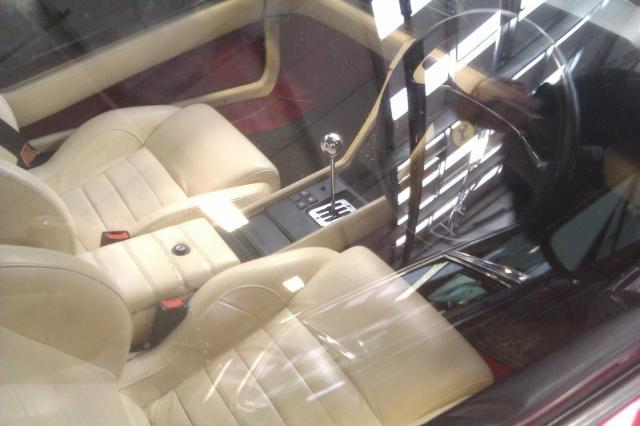Seatbelt: (0, 119, 38, 165)
